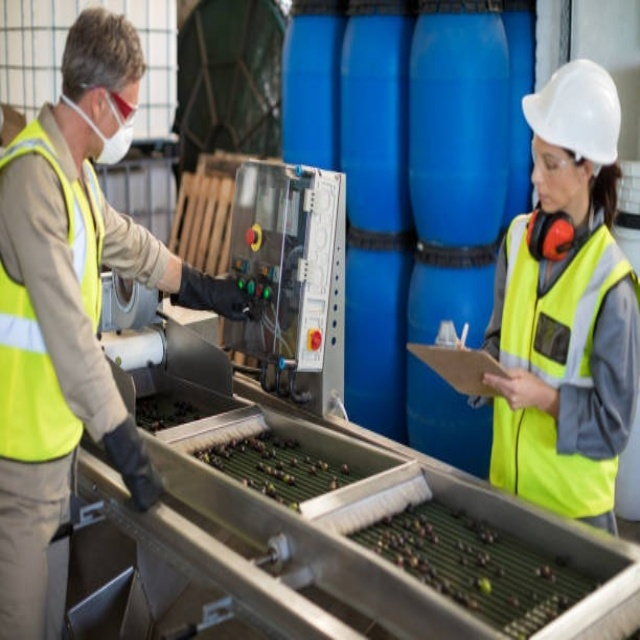Gafas: (99, 86, 138, 126), (532, 147, 581, 173)
Guantes: (101, 413, 166, 514), (174, 263, 253, 323)
Mascara: (78, 89, 135, 167)
Sin_guantes: (481, 355, 548, 414)
Sin_mascara: (531, 176, 561, 212)
